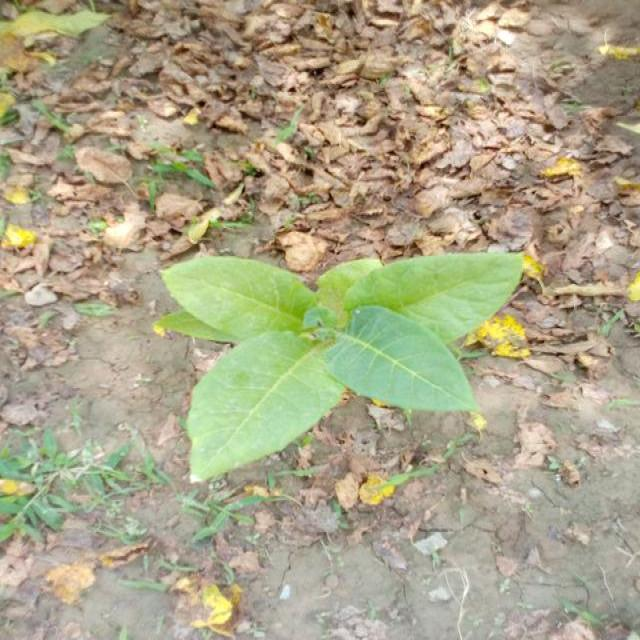crop: (167, 248, 514, 470)
